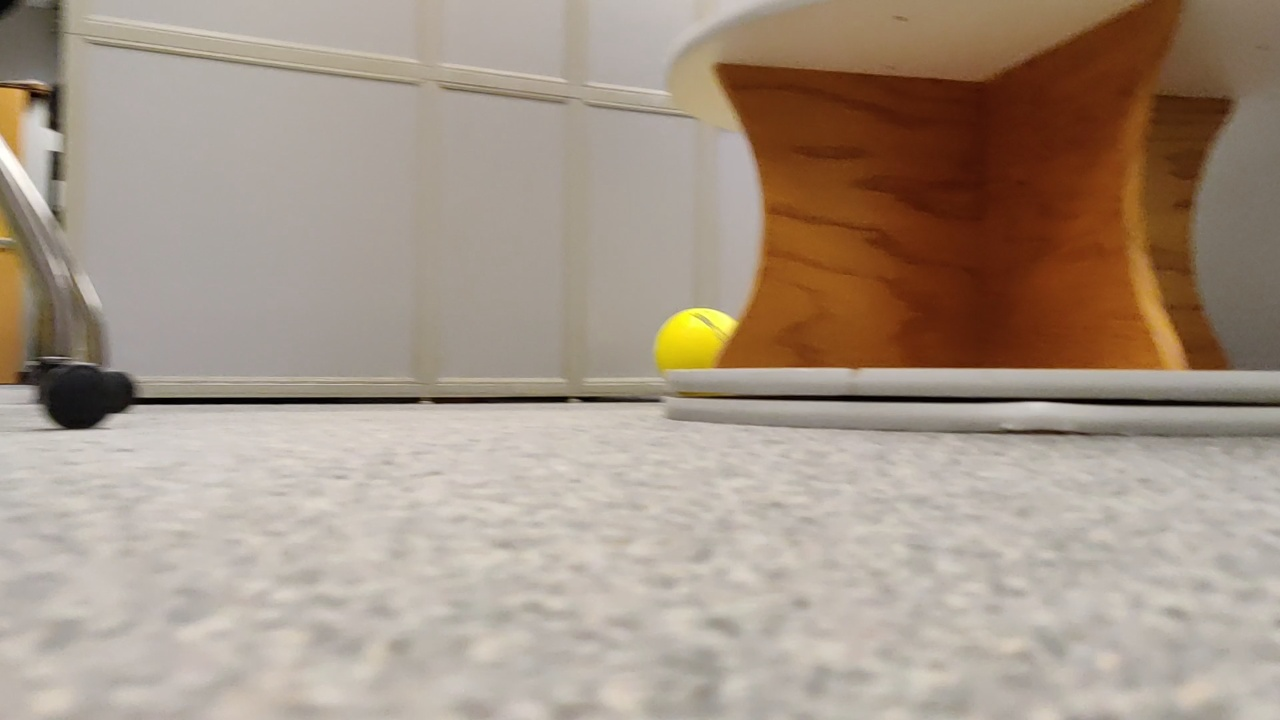Ball: (652, 307, 739, 370)
